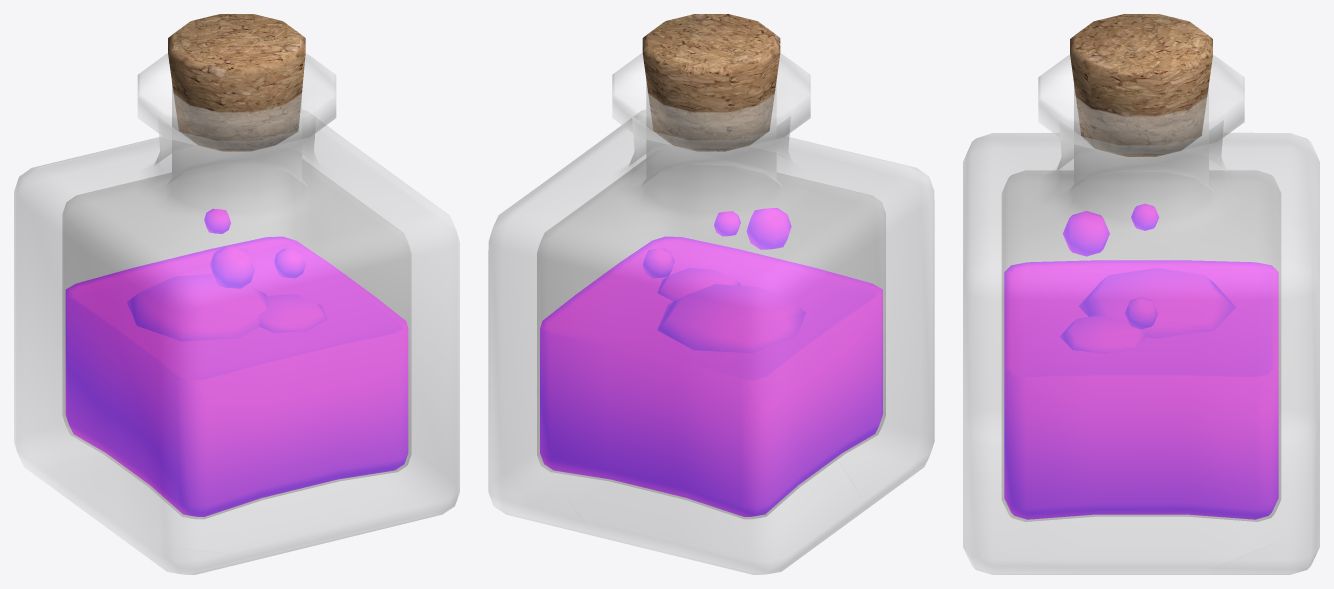
The model's file is glass_test.glb.
3 views of the same model, side by side, from view 1: azimuth 30°, elevation 25°; view 2: azimuth 150°, elevation 25°; view 3: azimuth 270°, elevation 25° (orthographic). The views are drawn at different scales.
Visible parts, largest first — view 1: Glass_3, Interior Glass_2, Liquid_5, Cork_4, Cube_6, Cube.001_7, Cube.003_9, Cube.002_8; view 2: Glass_3, Interior Glass_2, Liquid_5, Cork_4, Cube_6, Cube.003_9, Cube.001_7, Cube.002_8; view 3: Glass_3, Interior Glass_2, Liquid_5, Cork_4, Cube_6, Cube.001_7, Cube.003_9, Cube.002_8, Cube.004_10.
Boxes of the visible parts, left/top/right/bottom form: Glass_3: left=14, top=53, right=459, bottom=574; Interior Glass_2: left=62, top=85, right=411, bottom=518; Liquid_5: left=65, top=236, right=408, bottom=516; Cork_4: left=168, top=14, right=305, bottom=151; Cube_6: left=126, top=274, right=267, bottom=341; Cube.001_7: left=259, top=294, right=327, bottom=332; Cube.003_9: left=210, top=246, right=254, bottom=288; Cube.002_8: left=274, top=248, right=305, bottom=278; Glass_3: left=488, top=53, right=934, bottom=574; Interior Glass_2: left=537, top=83, right=885, bottom=518; Liquid_5: left=540, top=236, right=882, bottom=516; Cork_4: left=642, top=14, right=780, bottom=151; Cube_6: left=657, top=284, right=806, bottom=353; Cube.003_9: left=746, top=208, right=791, bottom=249; Cube.001_7: left=657, top=268, right=740, bottom=301; Cube.002_8: left=642, top=248, right=674, bottom=278; Glass_3: left=963, top=55, right=1319, bottom=574; Interior Glass_2: left=1002, top=87, right=1280, bottom=521; Liquid_5: left=1004, top=260, right=1278, bottom=519; Cork_4: left=1070, top=14, right=1212, bottom=156; Cube_6: left=1079, top=268, right=1235, bottom=338; Cube.001_7: left=1060, top=315, right=1145, bottom=353; Cube.003_9: left=1063, top=211, right=1109, bottom=256; Cube.002_8: left=1125, top=297, right=1157, bottom=329; Cube.004_10: left=1131, top=204, right=1158, bottom=230.
Bounding box in the file's own units: 6.2 × 8.99 × 6.2.
Materials: 4 (1 with a texture image).
